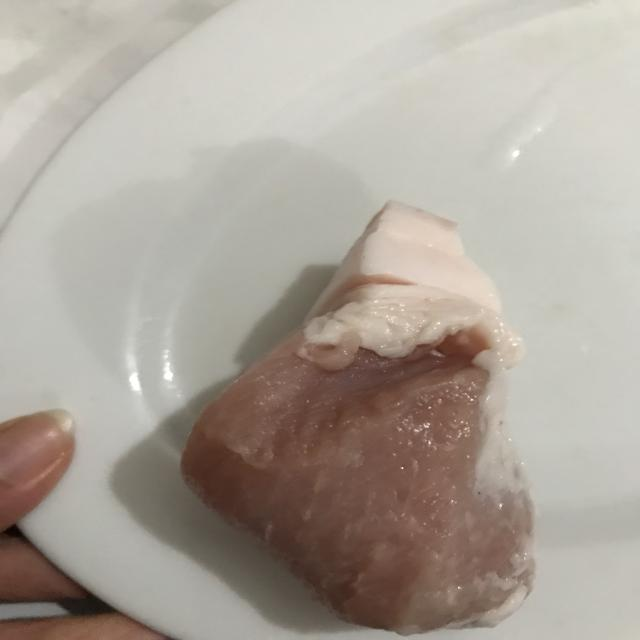chicken: (177, 198, 539, 640)
